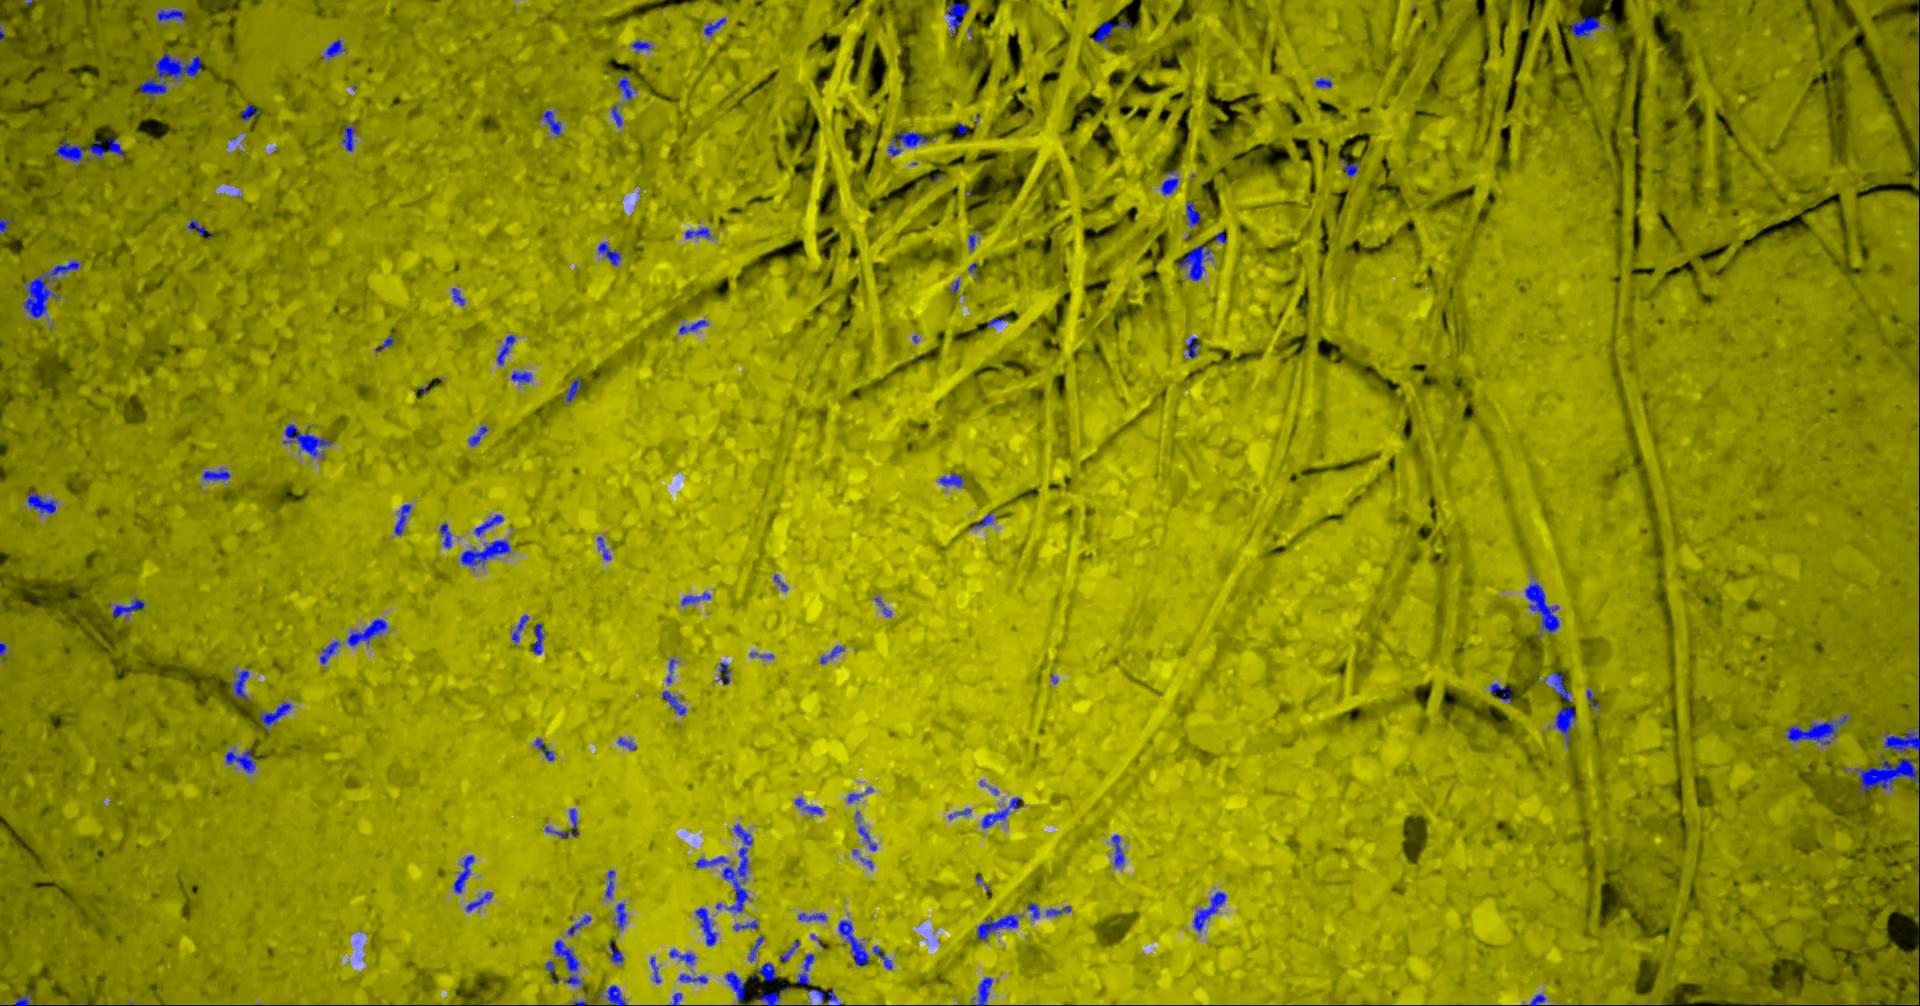ant: (25, 260, 81, 318), (1787, 714, 1849, 744), (56, 136, 127, 161), (1526, 580, 1561, 633), (284, 423, 333, 459), (839, 920, 870, 967), (462, 539, 512, 567), (1195, 890, 1227, 931), (1178, 244, 1214, 279), (983, 796, 1022, 828), (555, 939, 582, 984), (889, 131, 937, 155), (348, 619, 389, 647), (978, 915, 1020, 940), (546, 808, 580, 838), (1093, 20, 1133, 43), (696, 907, 719, 946), (1884, 728, 1920, 752), (455, 855, 476, 893), (857, 810, 877, 850), (260, 702, 293, 727), (1556, 708, 1577, 744), (947, 3, 971, 34), (28, 490, 58, 514), (226, 748, 257, 772), (726, 970, 747, 1005), (475, 514, 505, 536), (114, 597, 145, 617), (1553, 672, 1573, 702), (797, 953, 817, 984), (1572, 17, 1601, 37), (809, 988, 844, 1005), (756, 987, 789, 1005), (498, 334, 517, 365), (974, 977, 994, 1005), (395, 503, 413, 535), (232, 669, 250, 701), (664, 690, 687, 714), (467, 890, 494, 911), (599, 243, 622, 265), (321, 639, 342, 664), (874, 945, 894, 969), (188, 218, 213, 238), (536, 738, 556, 761), (569, 915, 592, 935), (323, 39, 347, 58), (618, 75, 637, 99), (543, 111, 563, 135), (1162, 170, 1180, 196), (681, 319, 710, 334), (1112, 835, 1126, 866), (513, 615, 530, 641), (796, 798, 823, 814), (749, 935, 766, 962), (670, 948, 697, 964), (705, 17, 728, 36), (782, 939, 801, 962), (822, 645, 846, 663), (682, 591, 712, 605), (469, 426, 489, 446), (608, 984, 629, 1005), (1491, 683, 1512, 702), (1187, 201, 1203, 226), (973, 512, 998, 527), (203, 467, 232, 480), (568, 377, 583, 401), (610, 939, 625, 963), (758, 962, 777, 981), (875, 596, 893, 616), (157, 9, 185, 22), (343, 126, 357, 151), (940, 473, 965, 486), (616, 902, 629, 929), (241, 103, 262, 119), (441, 522, 453, 547), (535, 622, 545, 654), (987, 314, 1010, 328), (598, 536, 612, 559), (606, 869, 616, 897), (681, 973, 709, 983), (686, 227, 712, 238), (651, 956, 662, 983), (513, 371, 533, 384), (734, 920, 759, 930), (377, 337, 395, 351), (800, 912, 828, 921), (720, 662, 731, 683), (1048, 904, 1072, 915), (618, 737, 637, 749), (1345, 161, 1360, 177), (1187, 337, 1199, 357), (453, 287, 466, 305), (1029, 902, 1041, 918), (613, 105, 623, 126), (15, 993, 33, 1005), (1, 218, 15, 232), (632, 39, 651, 50), (1530, 993, 1547, 1005), (1316, 77, 1333, 86)
